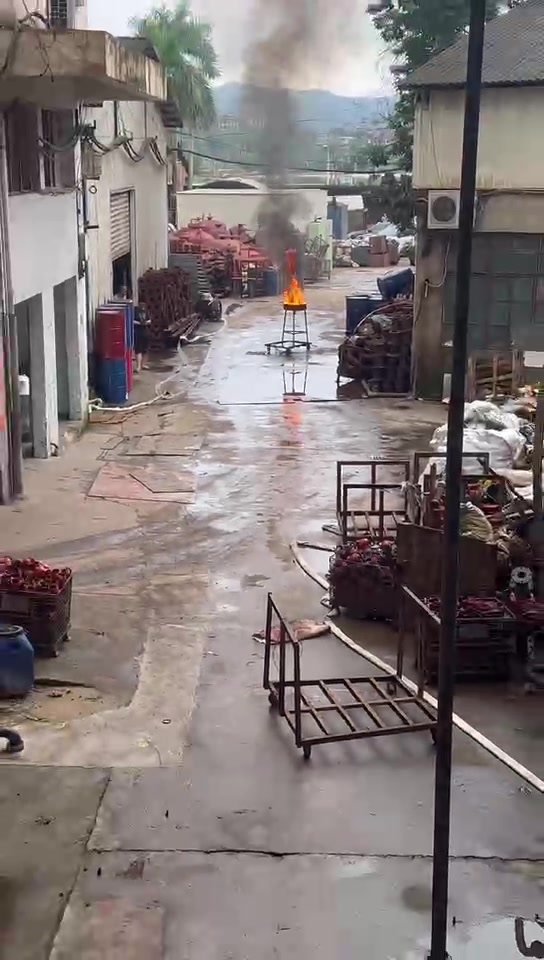fire: (283, 276, 307, 304)
